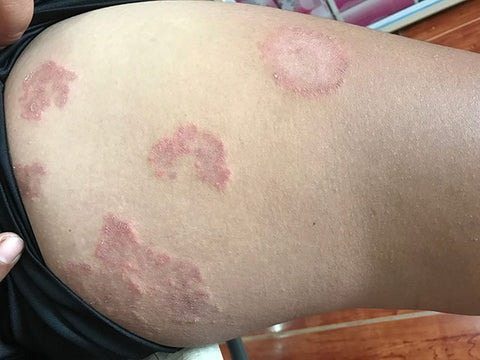Ringworm: (77, 217, 232, 337), (250, 12, 359, 103), (138, 120, 244, 199), (13, 50, 80, 132), (5, 157, 56, 204)
